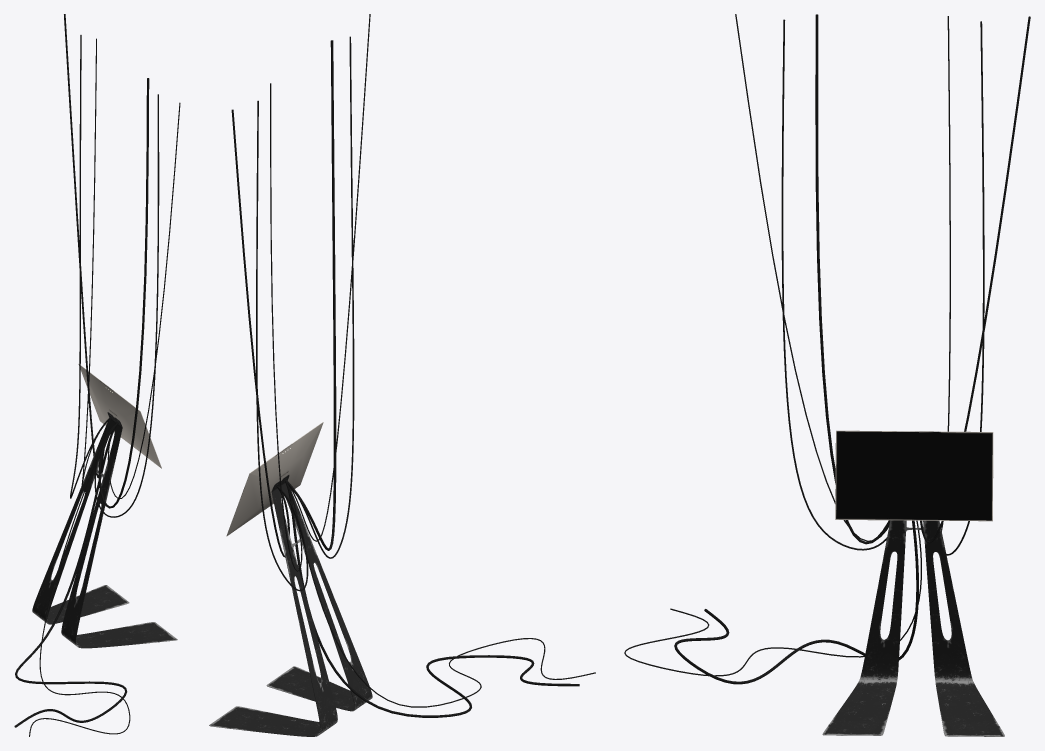
File: FuturisticScreen.glb
3 renders of one model, left to right at view 1: azimuth 30°, elevation 25°; view 2: azimuth 150°, elevation 25°; view 3: azimuth 270°, elevation 25°, orthographic. The views are drawn at different scales.
Parts seen in each view (by area): view 1: Stand Screen Mesh_Stand_Screen.001_0; view 2: Stand Screen Mesh_Stand_Screen.001_0; view 3: Stand Screen Mesh_Stand_Screen.001_0.
Boxes of the visible parts, x1,y1,x2,y2 form: Stand Screen Mesh_Stand_Screen.001_0: (14, 14, 180, 736); Stand Screen Mesh_Stand_Screen.001_0: (209, 14, 595, 736); Stand Screen Mesh_Stand_Screen.001_0: (624, 14, 1030, 736).
Bounding box in the file's own units: 1.51 × 3.87 × 2.03.
Materials: 1 (1 with a texture image).
